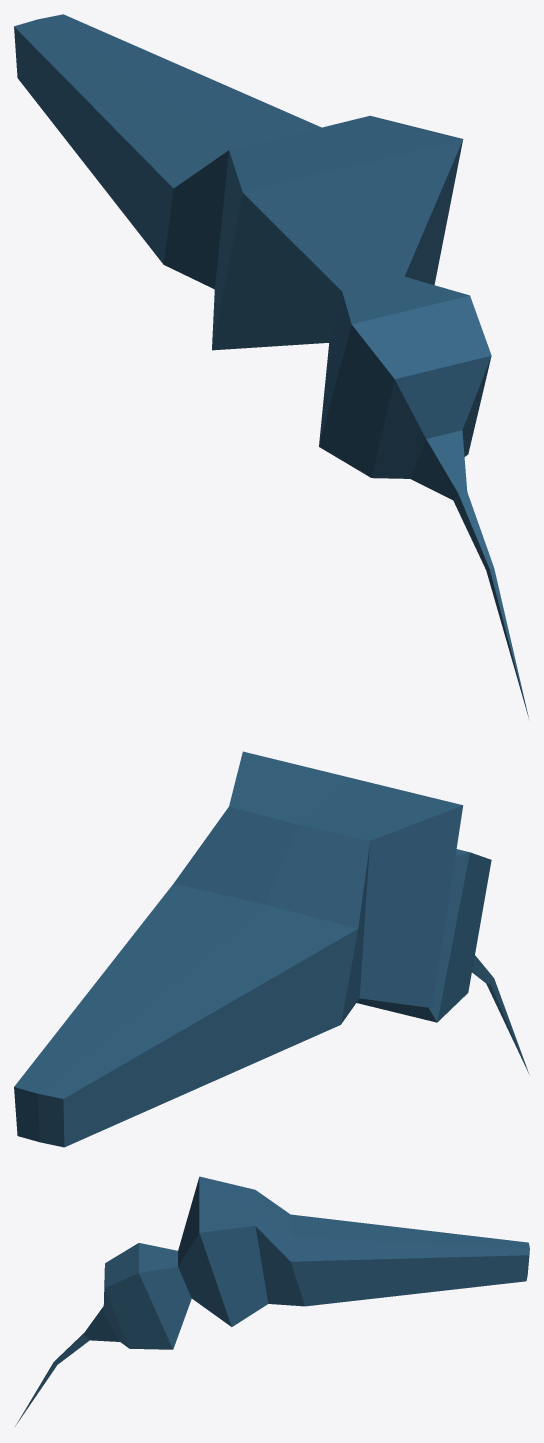
Rendered from Body.fbx.
3 renders of one model, top to bottom at view 1: azimuth 30°, elevation 25°; view 2: azimuth 150°, elevation 25°; view 3: azimuth 270°, elevation 25°, orthographic. The views are drawn at different scales.
Visible parts, largest first — view 1: MosquitoBody; view 2: MosquitoBody; view 3: MosquitoBody.
Boxes of the visible parts, x1,y1,x2,y2 form: MosquitoBody: (14, 14, 529, 719); MosquitoBody: (14, 751, 529, 1147); MosquitoBody: (15, 1176, 529, 1426).
Bounding box in the file's own units: 26.08 × 48.31 × 101.
